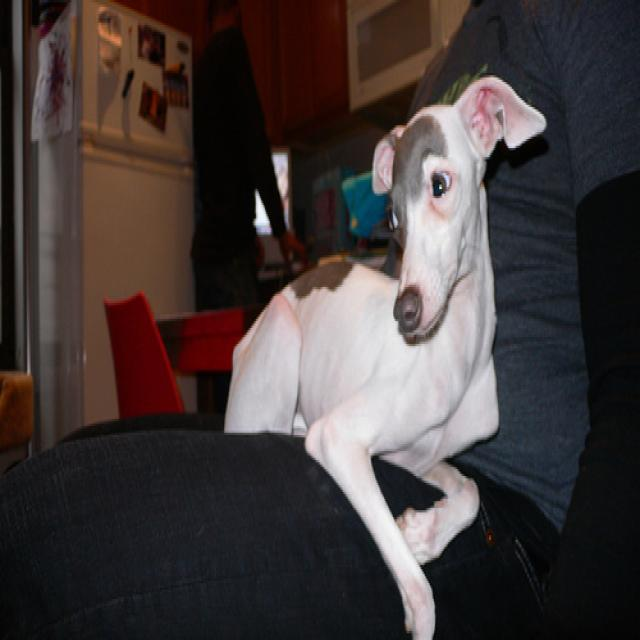chair: (103, 288, 188, 420)
dog: (225, 74, 546, 639)
person: (1, 1, 640, 639), (193, 1, 305, 308)
tvmonitor: (255, 147, 296, 265)
